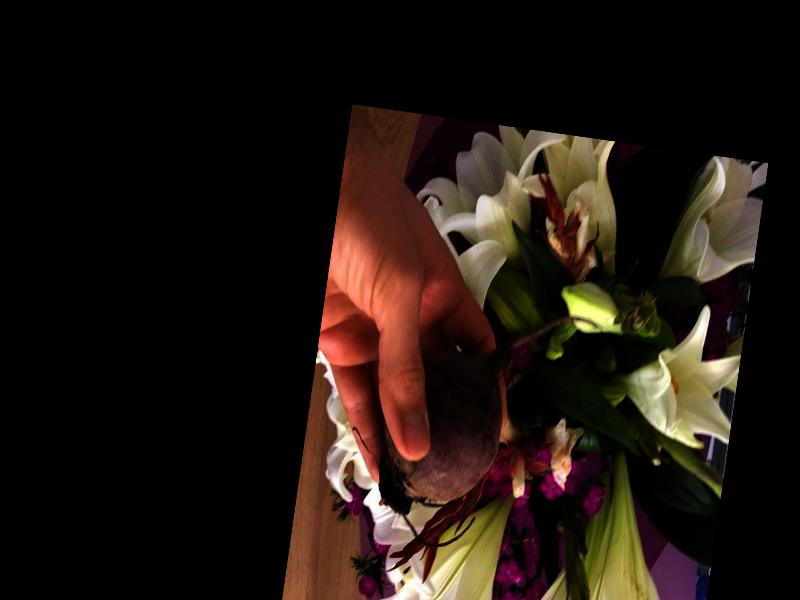Beet: (368, 291, 600, 566)
